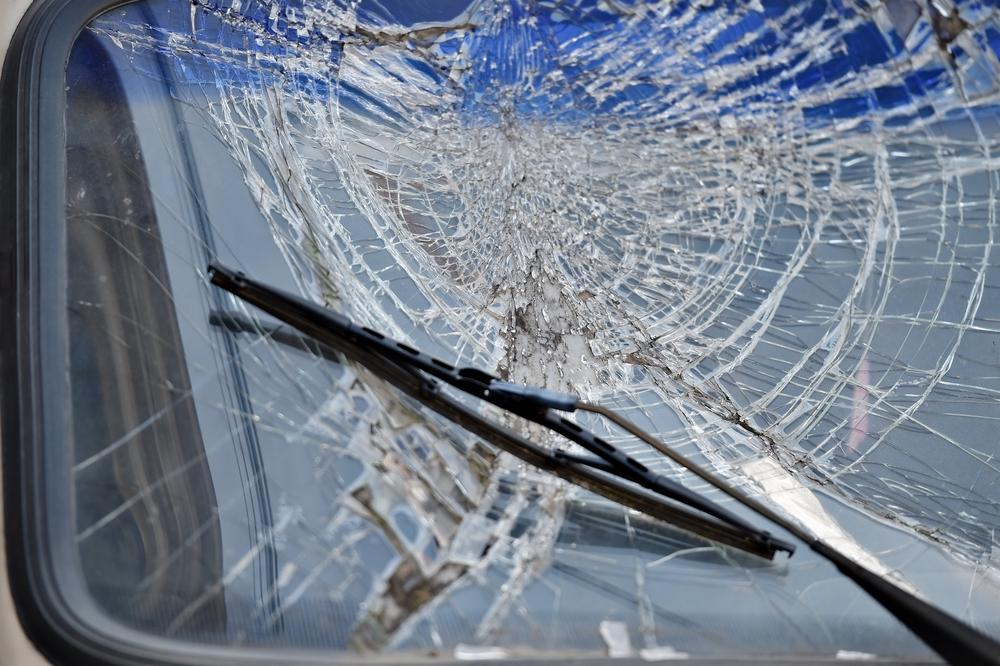glass shatter: (66, 0, 1000, 666)
